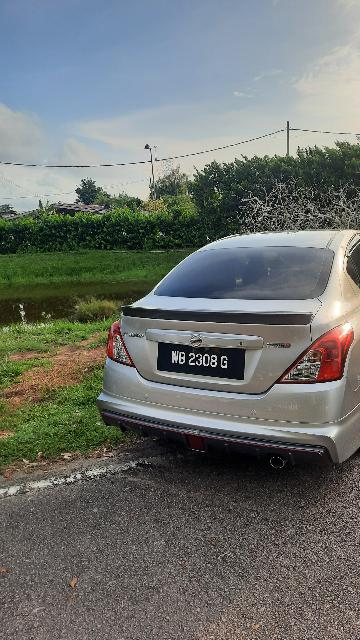License_Plate: (151, 340, 256, 387)
car: (92, 222, 360, 472)
